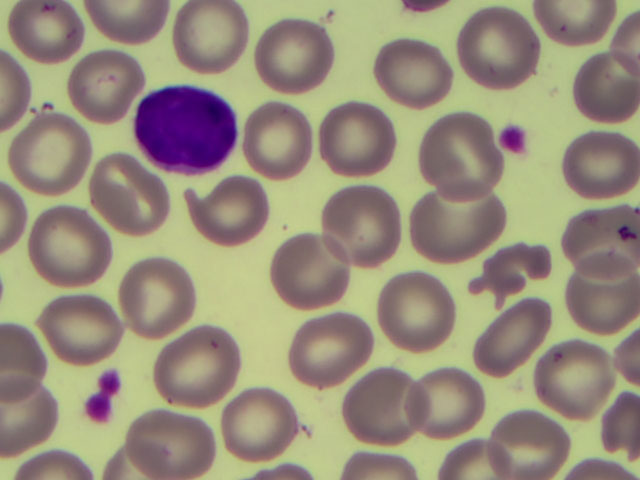Platelets: (87, 363, 126, 429), (493, 120, 528, 160)
RBC: (135, 402, 212, 480), (486, 402, 563, 480), (457, 9, 534, 87), (71, 47, 148, 124), (22, 113, 99, 190), (90, 157, 167, 234), (37, 206, 114, 283), (42, 279, 119, 356), (120, 260, 197, 337), (157, 324, 234, 401), (218, 381, 295, 458), (298, 313, 375, 390), (270, 235, 347, 312), (190, 172, 267, 249), (242, 101, 319, 178), (258, 16, 335, 93), (331, 182, 408, 259), (320, 104, 397, 181), (419, 108, 496, 185), (371, 34, 448, 111), (419, 188, 496, 265), (384, 266, 461, 343), (408, 365, 485, 442), (340, 370, 417, 447), (473, 298, 550, 375), (473, 231, 550, 308), (563, 199, 640, 276), (563, 120, 640, 197), (563, 49, 640, 126), (563, 262, 640, 339), (538, 341, 615, 418), (10, 1, 87, 77), (169, 1, 246, 77)
WBC: (132, 84, 242, 173)
